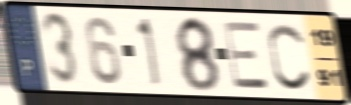1: (133, 16, 164, 88)
3: (40, 8, 80, 91)
6: (82, 14, 123, 87)
8: (172, 14, 224, 95)
C: (266, 20, 314, 94)
E: (221, 20, 272, 91)
